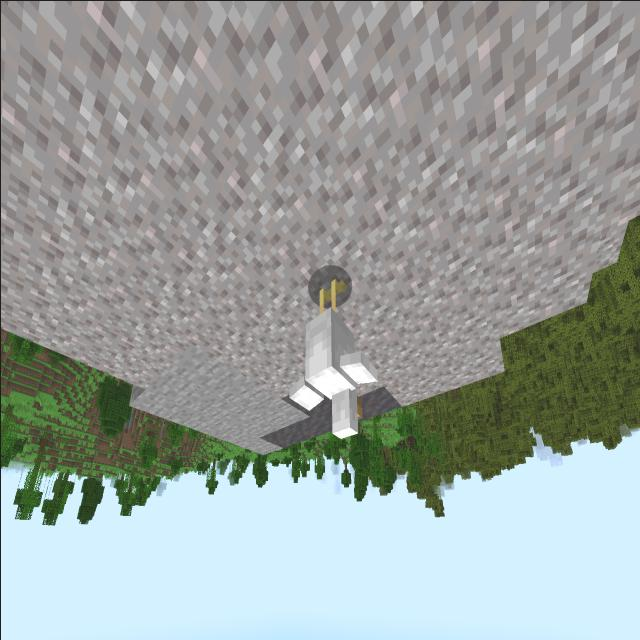chicken: (286, 262, 380, 450)
